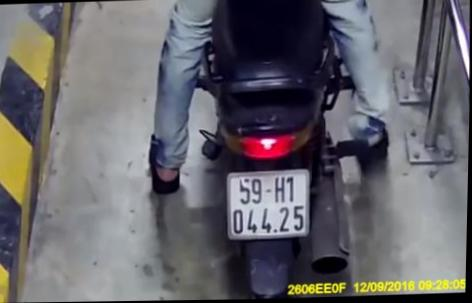LP: (225, 169, 314, 241)
